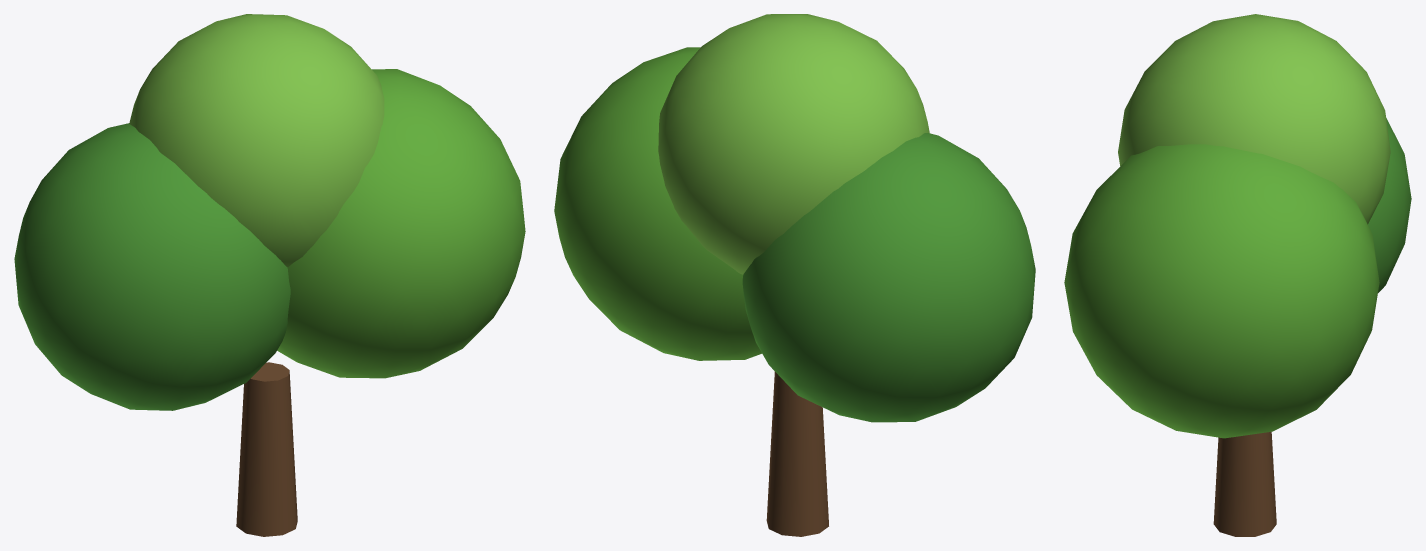
Rendered from prop_tree_deciduous_2.glb.
3 renders of one model, left to right at view 1: azimuth 30°, elevation 25°; view 2: azimuth 150°, elevation 25°; view 3: azimuth 270°, elevation 25°, orthographic.
Visible parts, largest first — view 1: CrownL, CrownR, CrownMid, Trunk; view 2: CrownL, CrownMid, CrownR, Trunk; view 3: CrownR, CrownMid, Trunk, CrownL.
Part boxes in pixels (x1=…): CrownL: x1=14, y1=123, x2=290, y2=410; CrownR: x1=277, y1=69, x2=525, y2=378; CrownMid: x1=129, y1=14, x2=384, y2=267; Trunk: x1=236, y1=362, x2=297, y2=536; CrownL: x1=742, y1=133, x2=1035, y2=422; CrownMid: x1=658, y1=14, x2=929, y2=274; CrownR: x1=554, y1=47, x2=761, y2=360; Trunk: x1=766, y1=371, x2=828, y2=536; CrownR: x1=1064, y1=144, x2=1379, y2=438; CrownMid: x1=1118, y1=14, x2=1390, y2=224; Trunk: x1=1213, y1=432, x2=1276, y2=536; CrownL: x1=1368, y1=118, x2=1411, y2=292.
Bounding box in the file's own units: 5 × 5.2 × 3.3.
